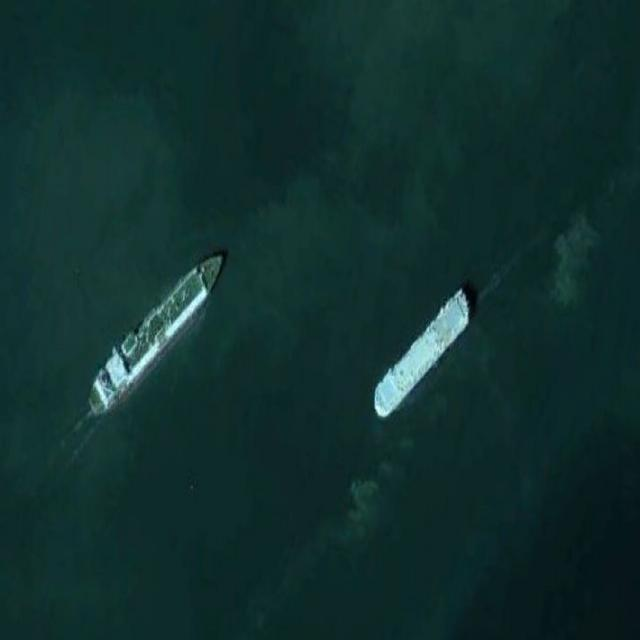ship: (89, 249, 227, 416), (373, 283, 474, 419)
